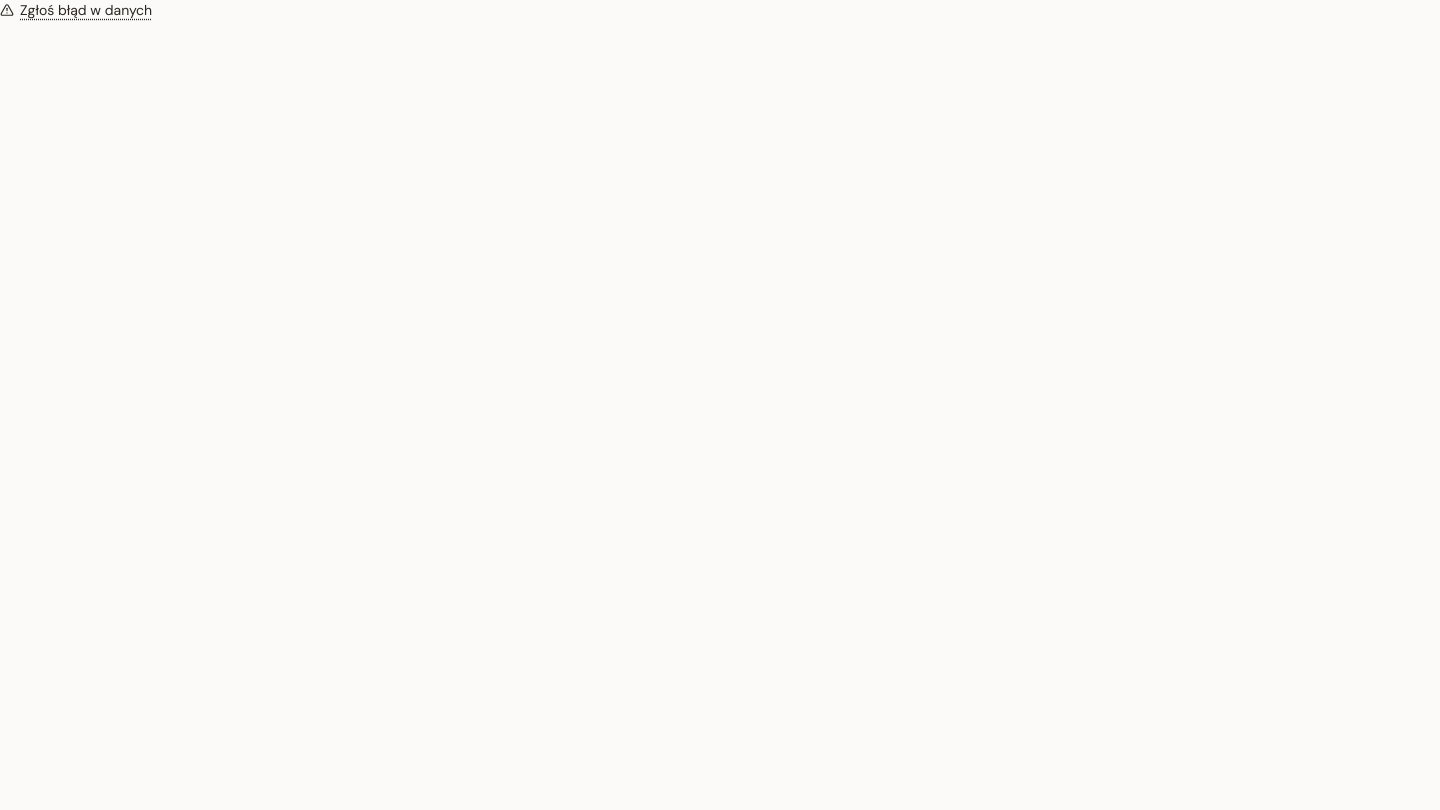
Test: AN-12-079 — „Zgłoś błąd w danych”: komunikat przy polu + fokus › pusta wysyłka -> komunikat przy opisie, fokus na opisie, bez toastu i bez INSERT
What coordinates should you click on to do the following:
click the button "Zgłoś błąd w danych"
I would click on:
 (76, 10)
Its box is [0,0,152,20].
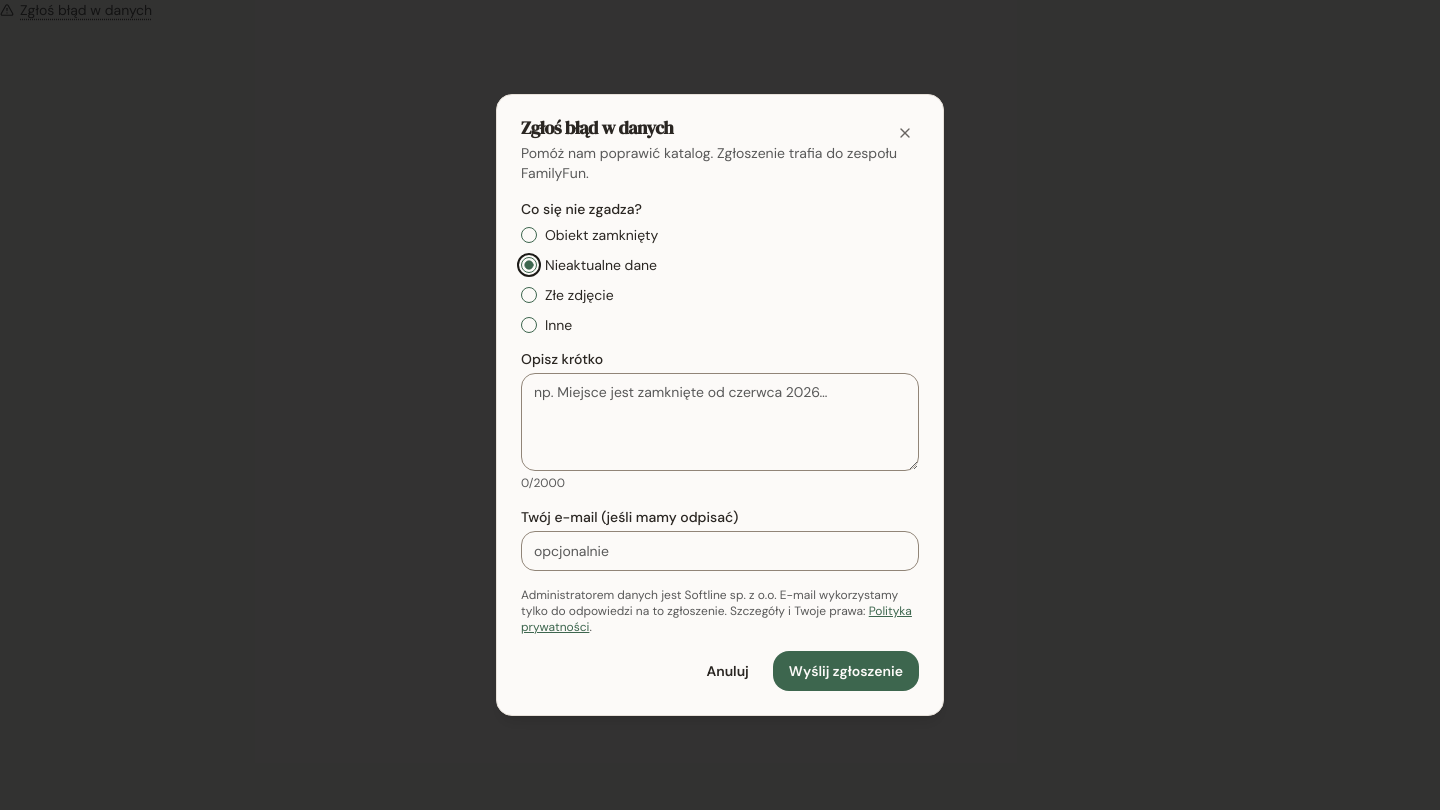
What coordinates should you click on to do the following:
click the button "Wyślij zgłoszenie"
I would click on:
 (846, 671)
Its box is [773,651,919,691].
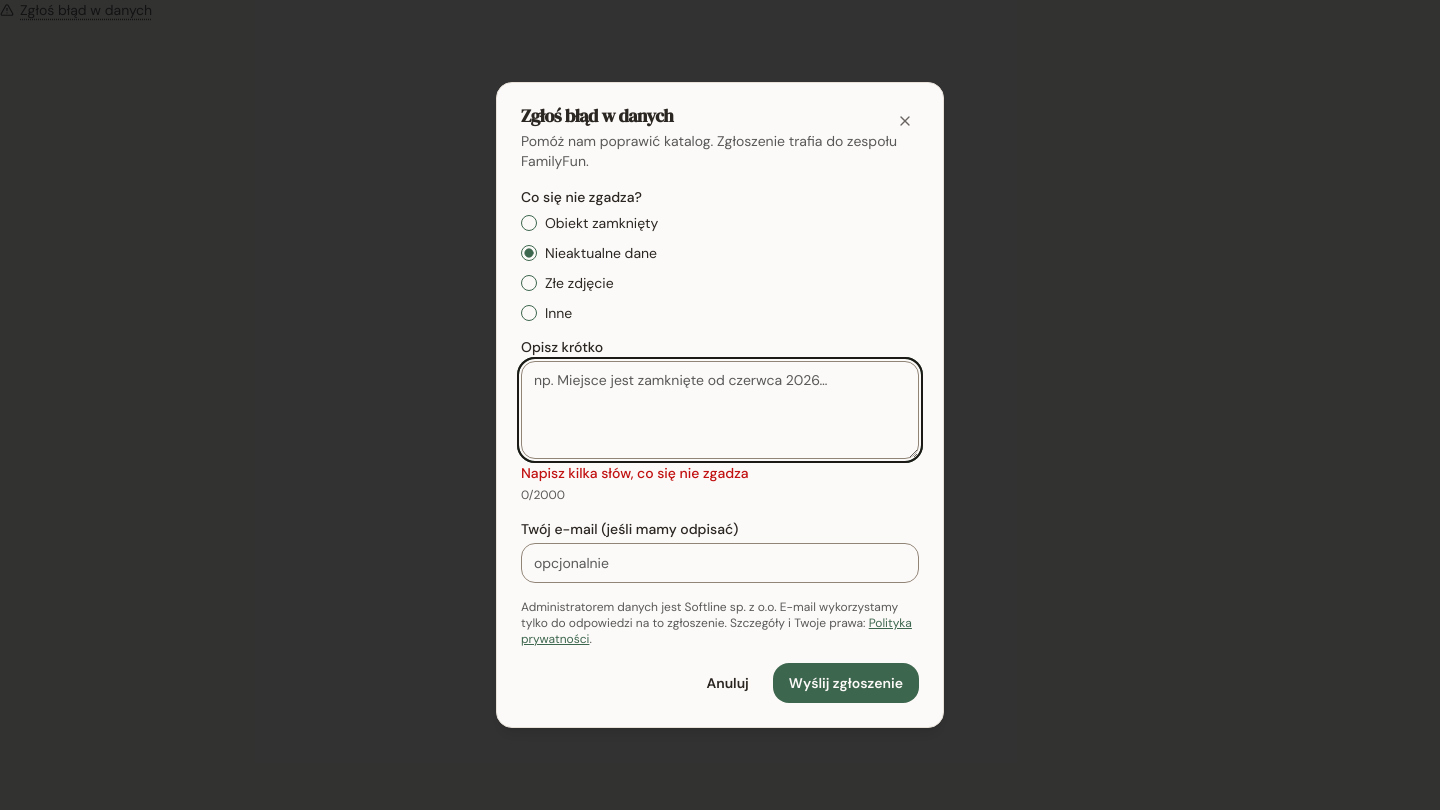
expect the text "Napisz kilka słów, co się nie zgadza" is shown: met, box [521,464,749,482]
